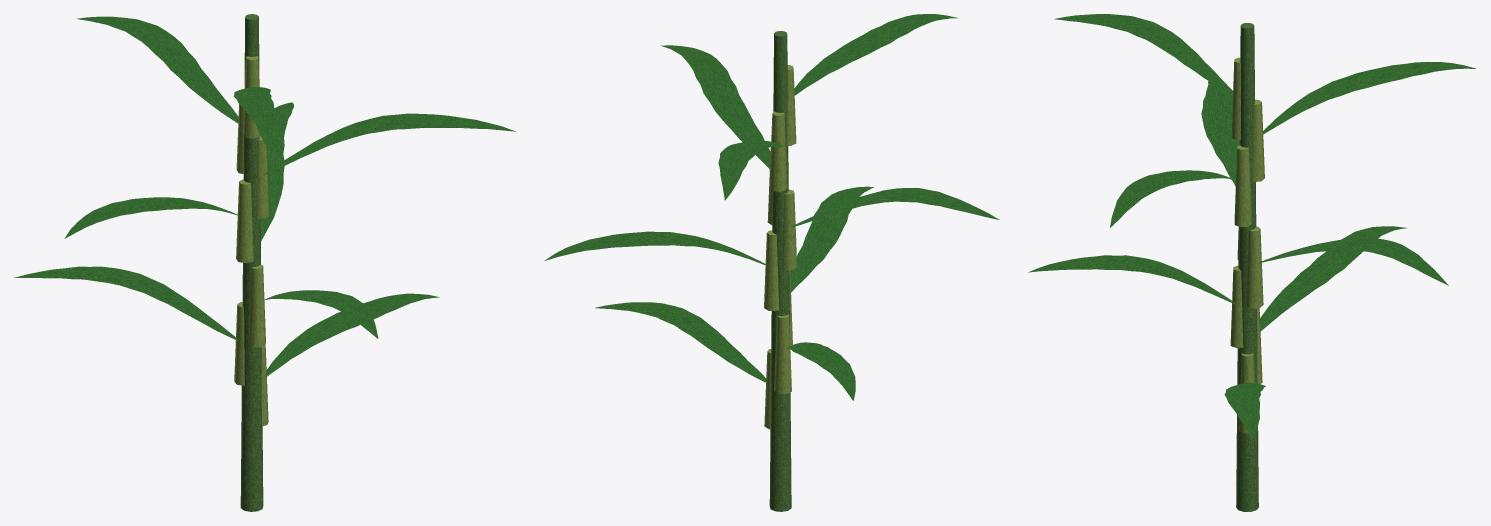
The model's file is PZ_Crop_Corn_Mid.glb.
3 renders of one model, left to right at view 1: azimuth 30°, elevation 25°; view 2: azimuth 150°, elevation 25°; view 3: azimuth 270°, elevation 25°, orthographic. The views are drawn at different scales.
Visible parts, largest first — view 1: PZ_Crop_Corn_Mid_02_Curved_Broad_Blades, PZ_Crop_Corn_Mid_01_Culm, PZ_Crop_Corn_Mid_03_Leaf_Sheaths; view 2: PZ_Crop_Corn_Mid_02_Curved_Broad_Blades, PZ_Crop_Corn_Mid_03_Leaf_Sheaths, PZ_Crop_Corn_Mid_01_Culm; view 3: PZ_Crop_Corn_Mid_02_Curved_Broad_Blades, PZ_Crop_Corn_Mid_03_Leaf_Sheaths, PZ_Crop_Corn_Mid_01_Culm.
Part boxes in pixels (x1,y1,x2,y2): PZ_Crop_Corn_Mid_02_Curved_Broad_Blades: (14, 16, 515, 376); PZ_Crop_Corn_Mid_01_Culm: (240, 14, 263, 511); PZ_Crop_Corn_Mid_03_Leaf_Sheaths: (234, 56, 269, 426); PZ_Crop_Corn_Mid_02_Curved_Broad_Blades: (544, 14, 999, 400); PZ_Crop_Corn_Mid_03_Leaf_Sheaths: (764, 65, 797, 429); PZ_Crop_Corn_Mid_01_Culm: (769, 31, 791, 511); PZ_Crop_Corn_Mid_02_Curved_Broad_Blades: (1028, 14, 1476, 439); PZ_Crop_Corn_Mid_03_Leaf_Sheaths: (1230, 57, 1264, 433); PZ_Crop_Corn_Mid_01_Culm: (1236, 23, 1258, 511).
Bounding box in the file's own units: 0.9213 × 1.08 × 0.9079.
Materials: 3 (3 with a texture image).
